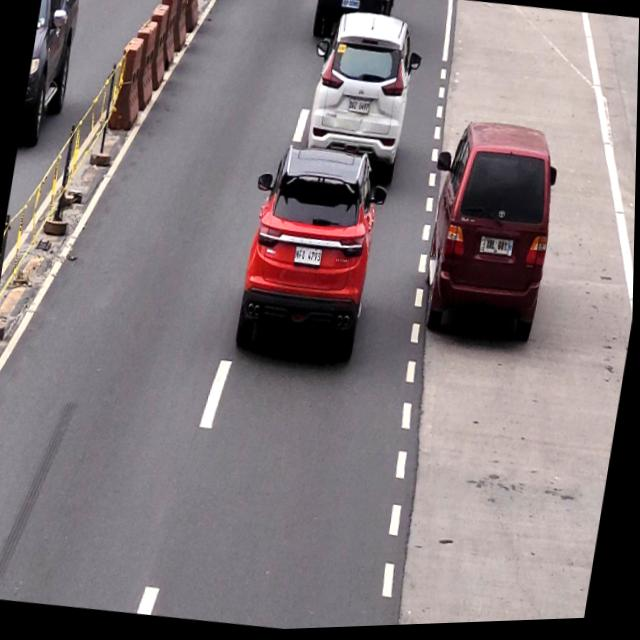Car: (233, 140, 383, 366), (421, 123, 563, 357), (307, 10, 420, 160)
License-Plate: (478, 236, 516, 267), (292, 246, 326, 271), (347, 99, 373, 121)
